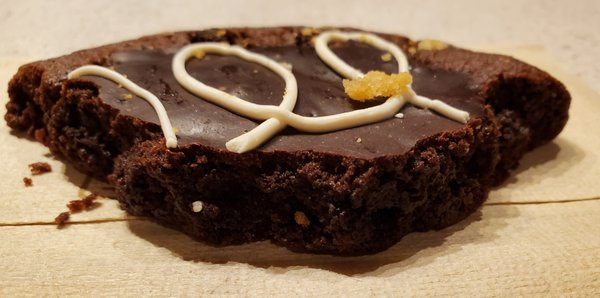taco: (172, 43, 299, 121)
